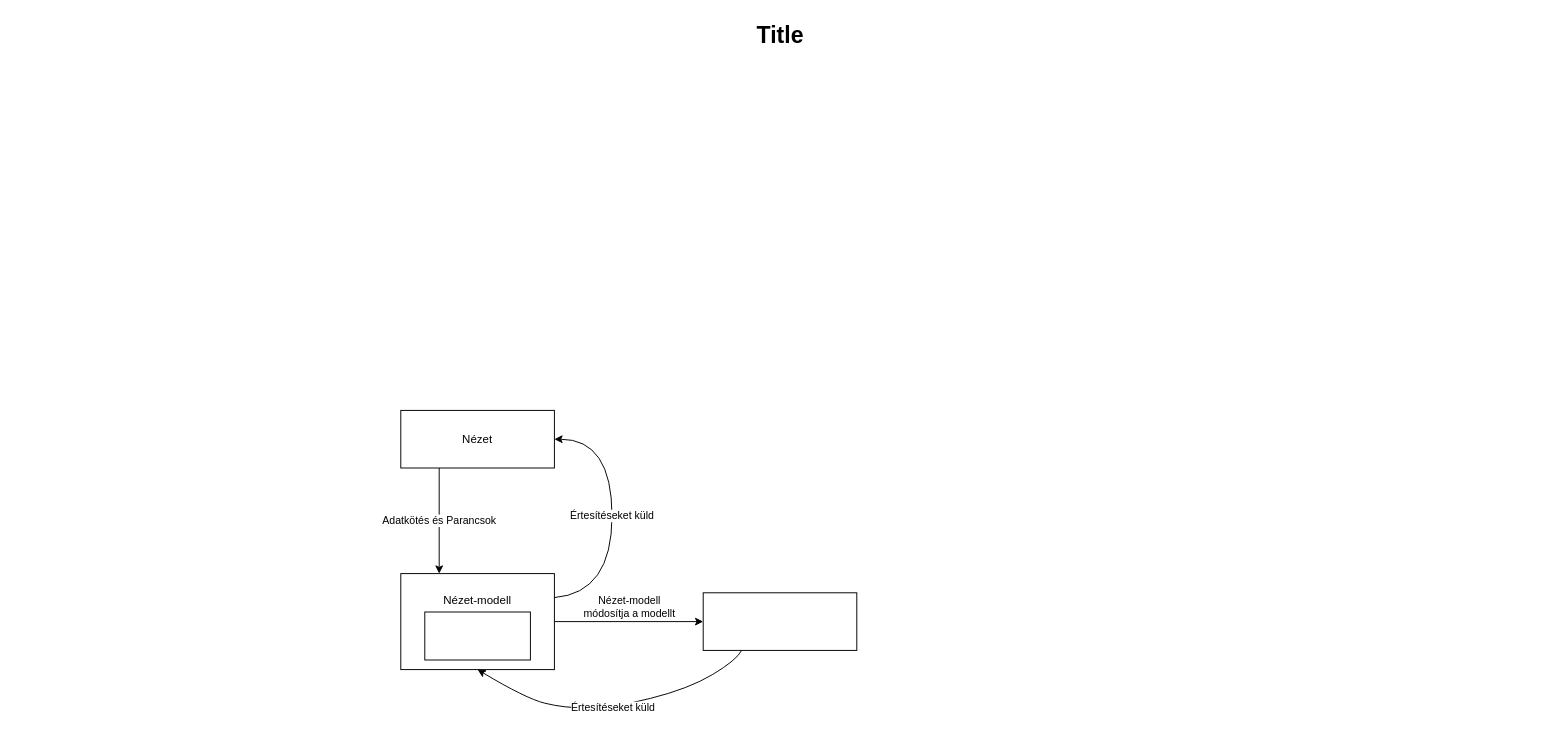
Image size: 1559x731. Some labels were removed from this diagram. The centre of each missing label's shape, as x and y in pixels:
Modell: the point at 779,621
Állapottok és beavatkozások: the point at 477,635
